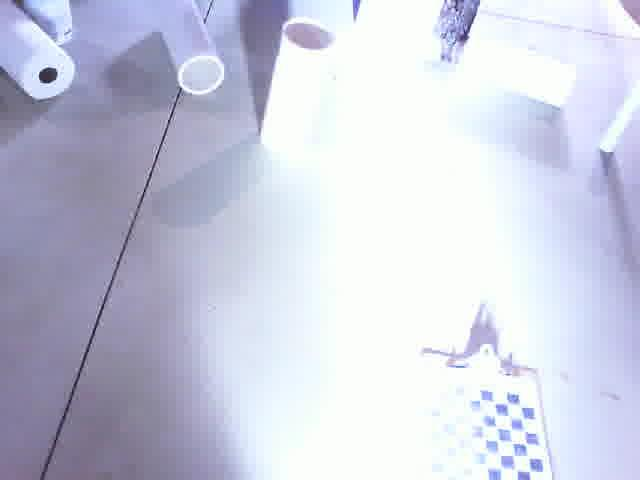coral: (259, 12, 340, 157), (459, 28, 582, 110), (151, 0, 226, 95)
